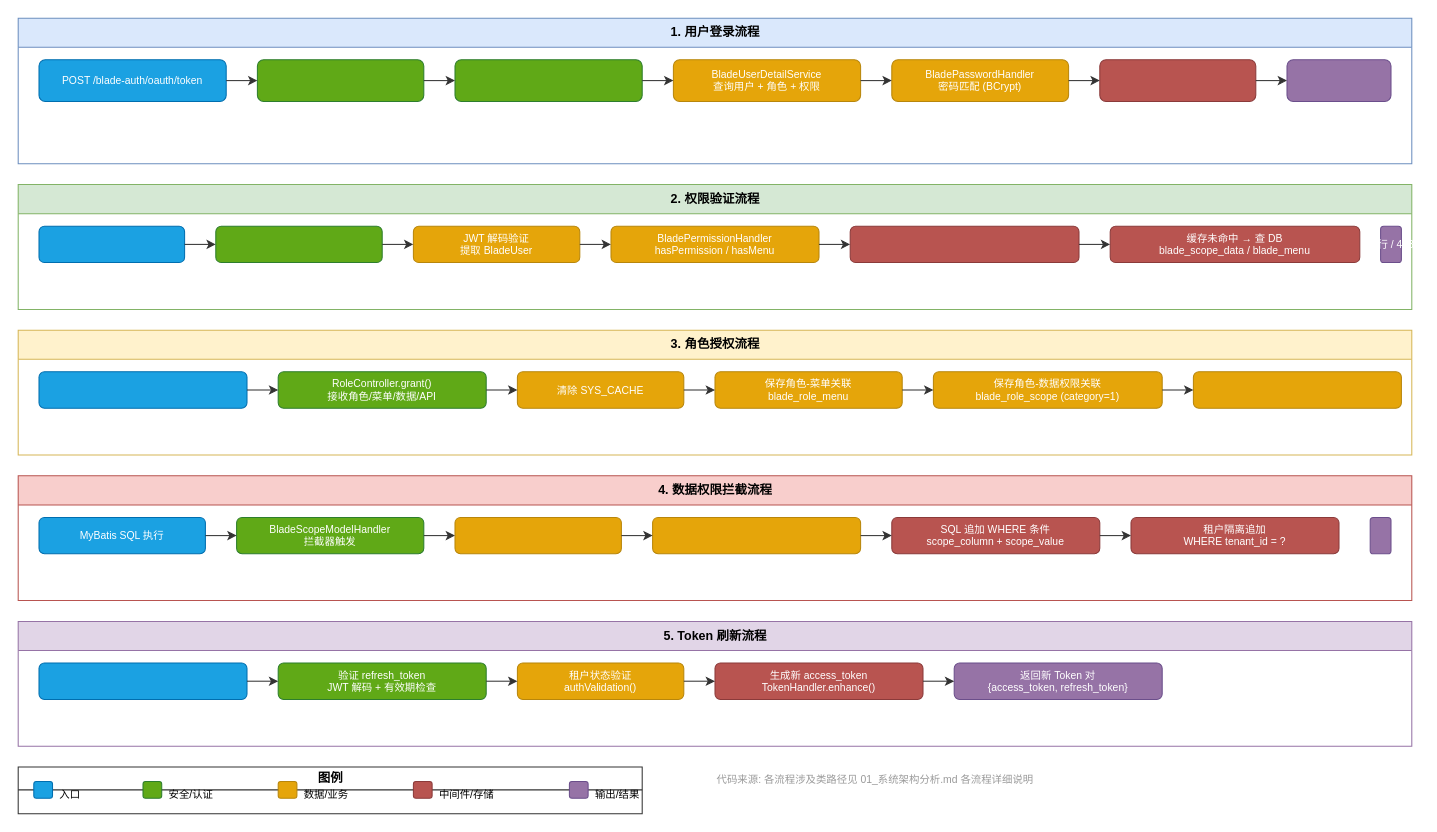
Image size: 1437x832. Some labels were removed from this diagram. Each missing label, with the centre of its shape:
"BladeAuthorizationHandler 前置验证 (锁定/弱密码)" belongs at point 548,80.
"BladeTokenHandler 生成 JWT Token" belongs at point 1177,80.
"CaptchaTokenGranter 验证验证码" belongs at point 340,80.
"HTTP 请求到达" belongs at point 111,244.
"POST /blade-auth/oauth/token grantType=refresh_token" belongs at point 142,680.
"POST /blade-system/role/grant" belongs at point 142,389.
"SecureInterceptor 跳过 URL 检查" belongs at point 298,244.
"保存角色-API权限关联 blade_role_scope (category=2)" belongs at point 1296,389.
"执行修改后 SQL" belongs at point 1380,535.
"查询 Redis 缓存 apiScope:code:{code}:{roleId}" belongs at point 964,244.
"查询数据权限规则 blade_scope_data (按角色)" belongs at point 756,535.
"获取当前用户角色 从 BladeContext" belongs at point 537,535.
"返回 access_token + refresh_token" belongs at point 1338,80.
